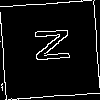N: (25, 25, 70, 65)
